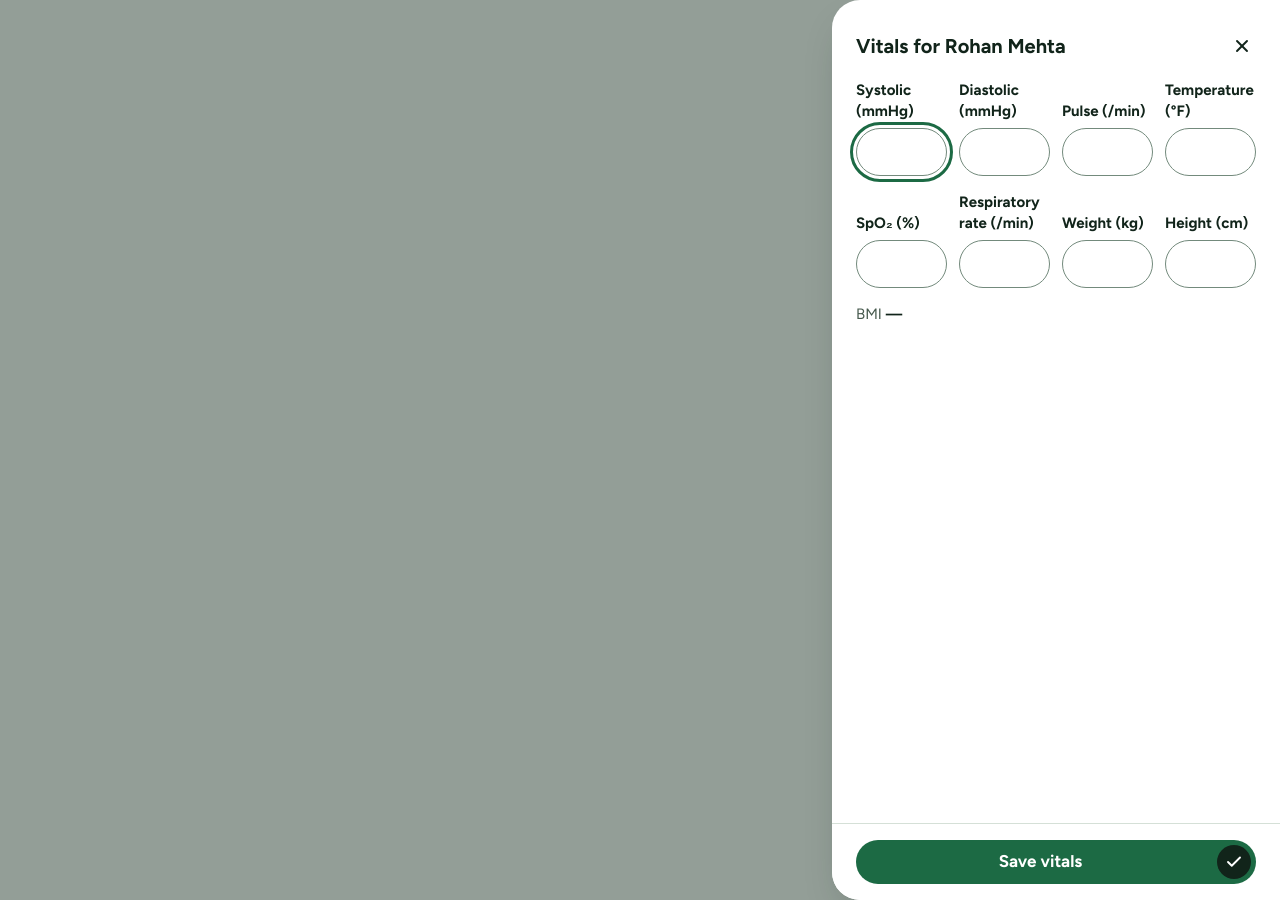
WaitingVitalsSheet (D203) › takes a waiting patient's first vitals, reading no visit, and closes everything with a card
Type "80" into the field labelled "Pulse (/min)" at (1108, 152), box [1062,128,1153,176]
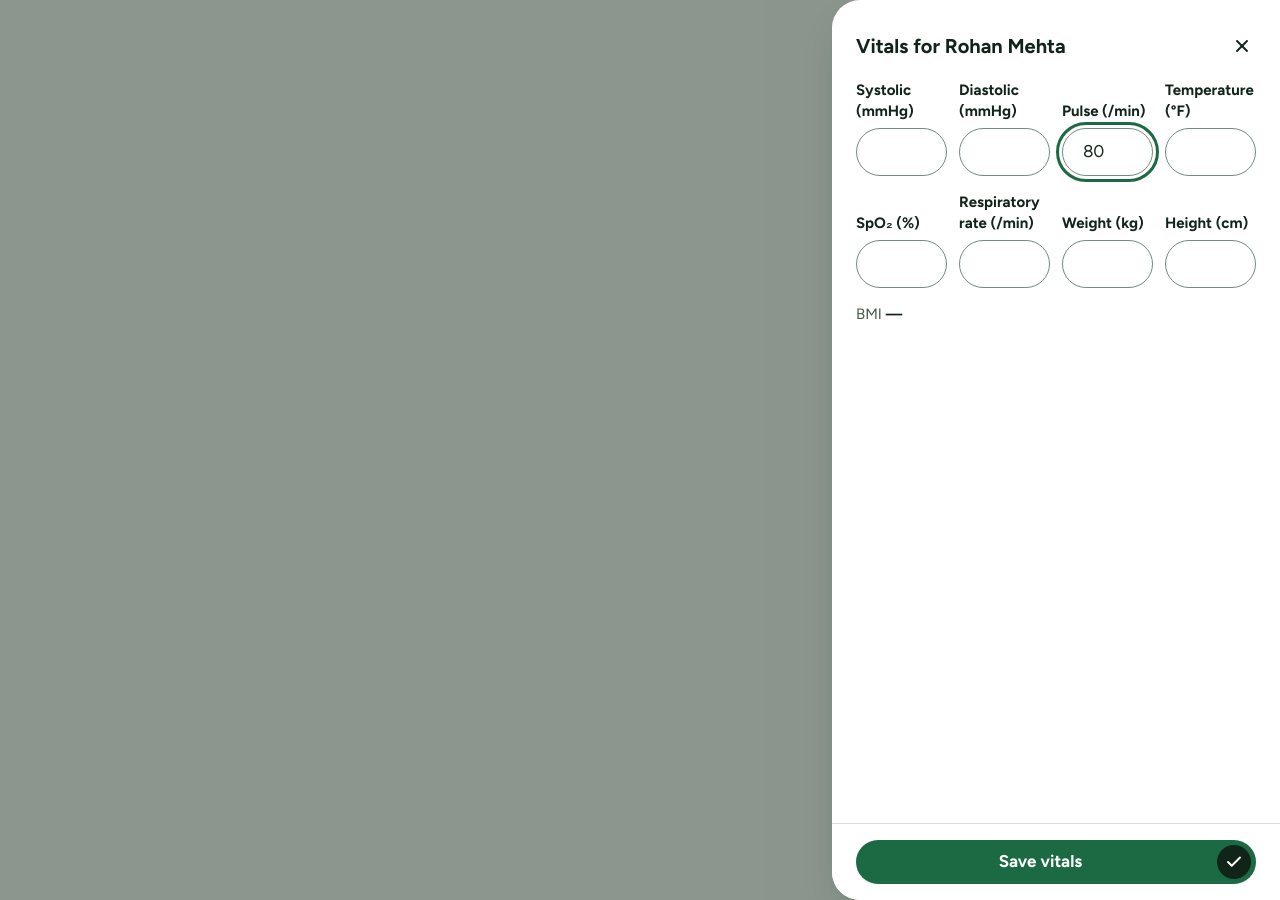
Click the button "Save vitals" at (1056, 862), box [856,840,1256,884]
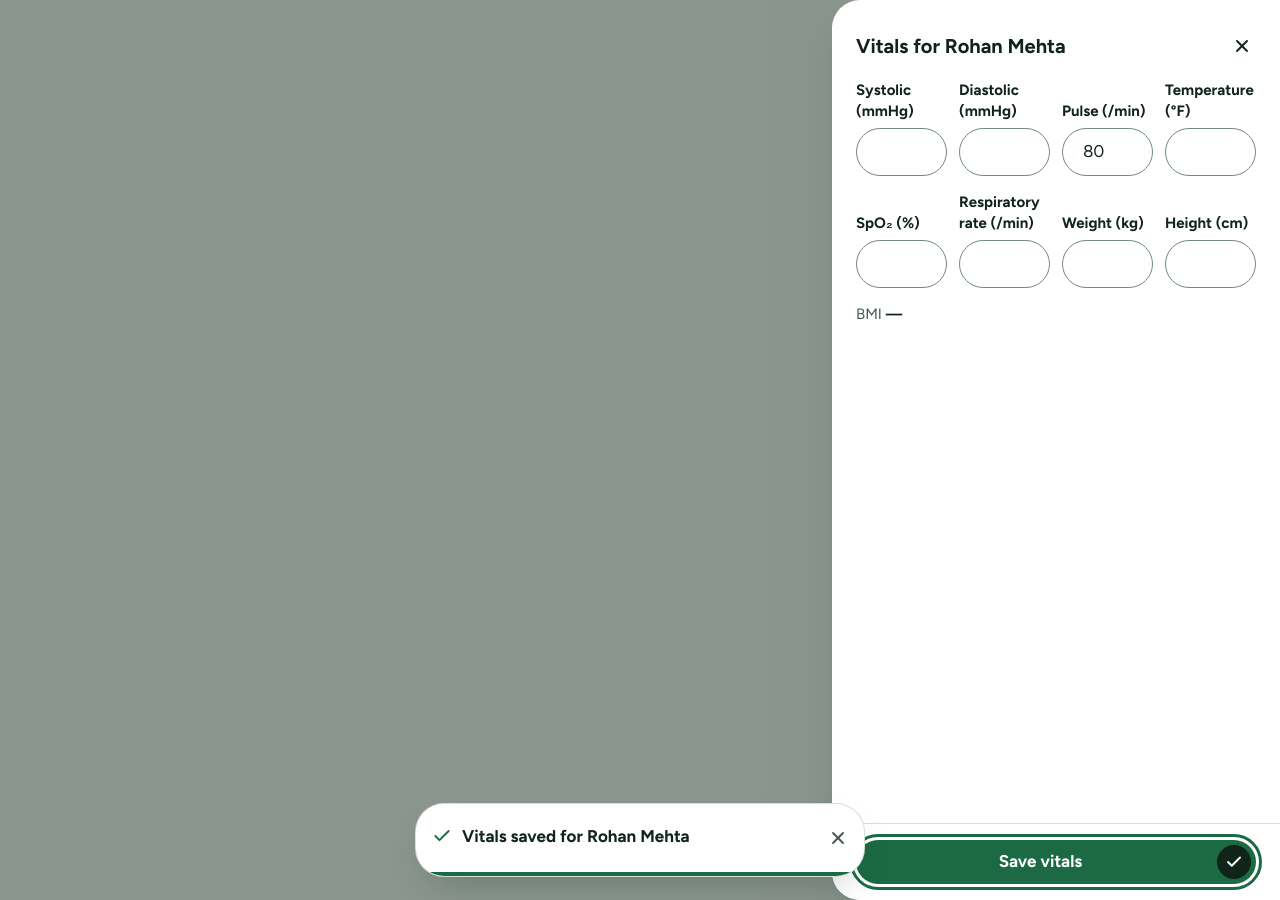
Now the text "Vitals saved for Rohan Mehta" is shown, box [462,826,690,846]
